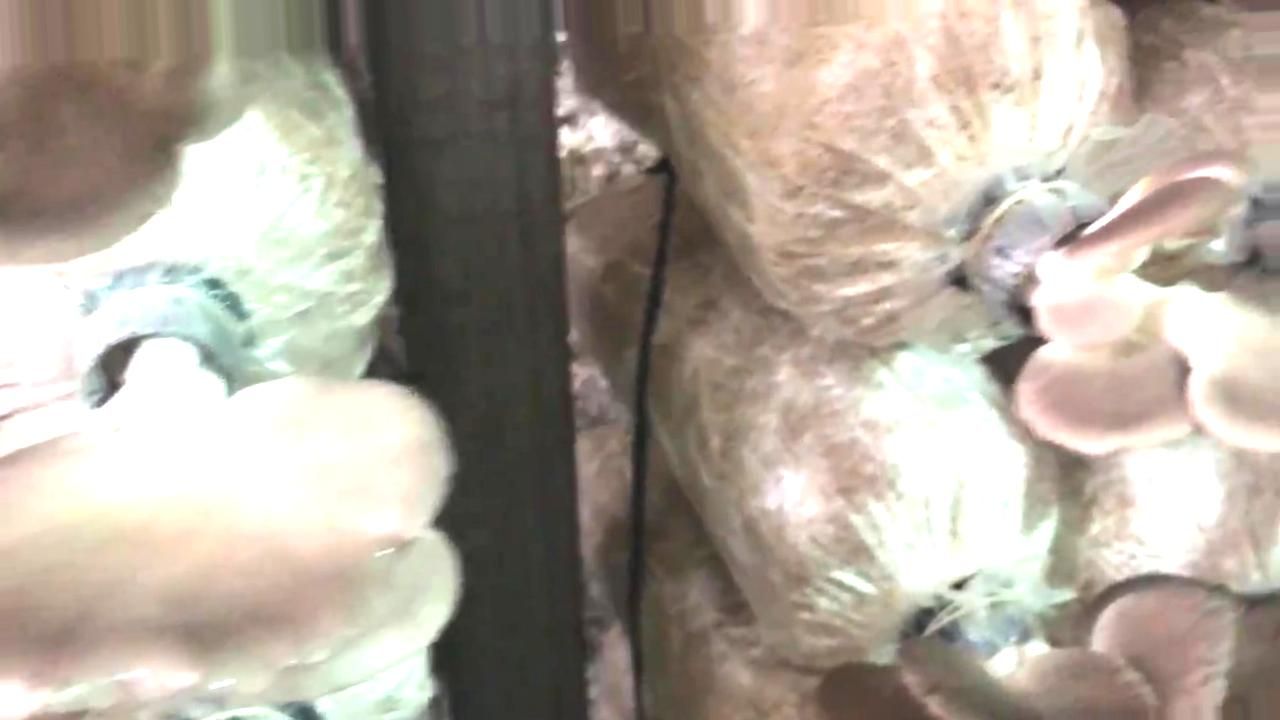nam: (2, 264, 463, 693), (970, 137, 1280, 457), (7, 1, 275, 273), (807, 560, 1262, 720)
